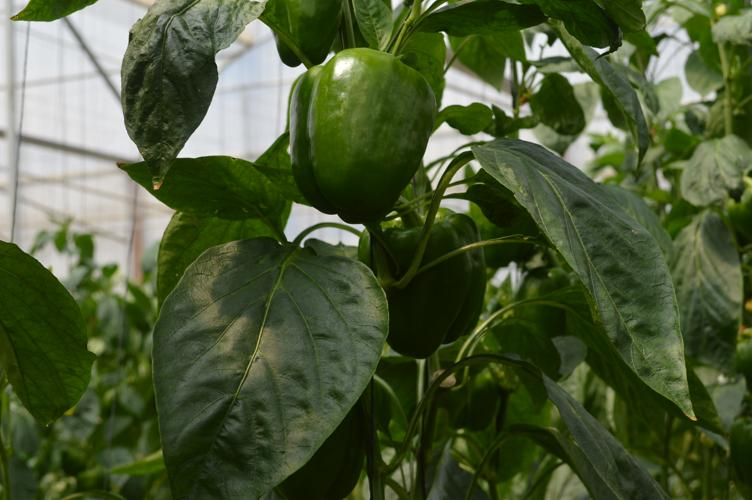BellPepper: (290, 47, 435, 224), (342, 207, 485, 351)
